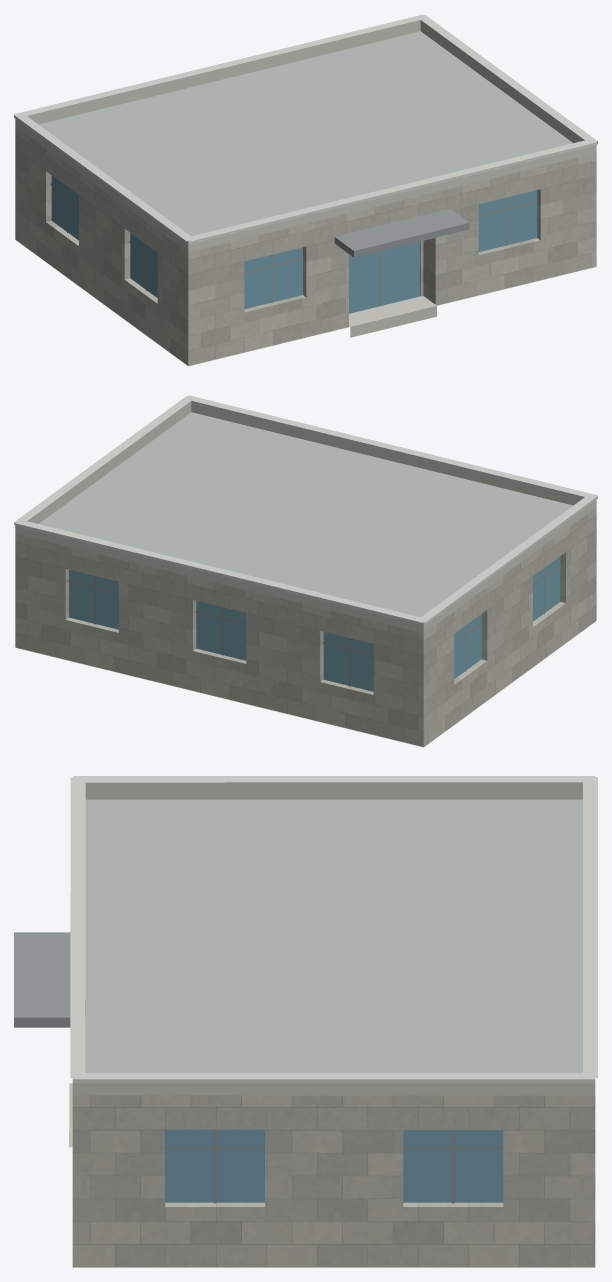
3 renders of one model, top to bottom at view 1: azimuth 30°, elevation 25°; view 2: azimuth 150°, elevation 25°; view 3: azimuth 270°, elevation 25°, orthographic. The views are drawn at different scales.
Visible parts, largest first — view 1: unist-batch-osm480660067__parapet, osm480660067__wall, osm480660067__glass, osm480660067__trim, osm480660067__canopy, osm480660067__entranceThreshold_0, osm480660067__frame; view 2: unist-batch-osm480660067__parapet, osm480660067__wall, osm480660067__glass, osm480660067__trim, osm480660067__frame; view 3: unist-batch-osm480660067__parapet, osm480660067__wall, osm480660067__trim, osm480660067__glass, osm480660067__canopy, osm480660067__frame.
Boxes of the visible parts, x1,y1,x2,y2 form: unist-batch-osm480660067__parapet: (15,20,596,366); osm480660067__wall: (15,126,596,365); osm480660067__glass: (51,175,537,313); osm480660067__trim: (14,14,597,244); osm480660067__canopy: (334,208,469,257); osm480660067__entranceThreshold_0: (349,296,436,337); osm480660067__frame: (51,183,537,306); unist-batch-osm480660067__parapet: (15,401,596,747); osm480660067__wall: (15,507,596,746); osm480660067__glass: (69,556,560,691); osm480660067__trim: (14,395,597,625); osm480660067__frame: (68,564,560,686); unist-batch-osm480660067__parapet: (72,782,595,1267); osm480660067__wall: (72,1095,595,1266); osm480660067__trim: (70,776,597,1083); osm480660067__glass: (165,1129,503,1202); osm480660067__canopy: (14,932,70,1027); osm480660067__frame: (165,1129,503,1203).
Size of the model in its own units: 17.06 by 5.35 by 13.88.
Materials: 7 (1 with a texture image).
